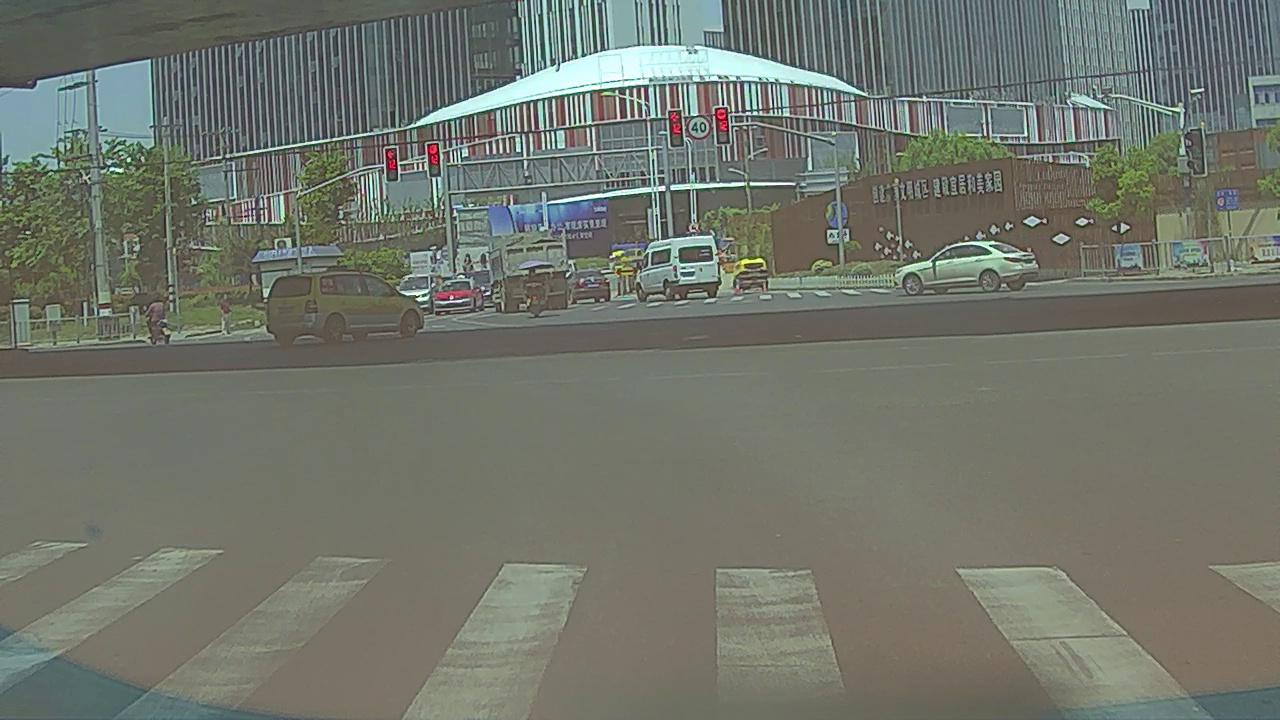traffic_light: (713, 107, 731, 144), (668, 110, 684, 145), (385, 147, 399, 180), (428, 143, 441, 176)
